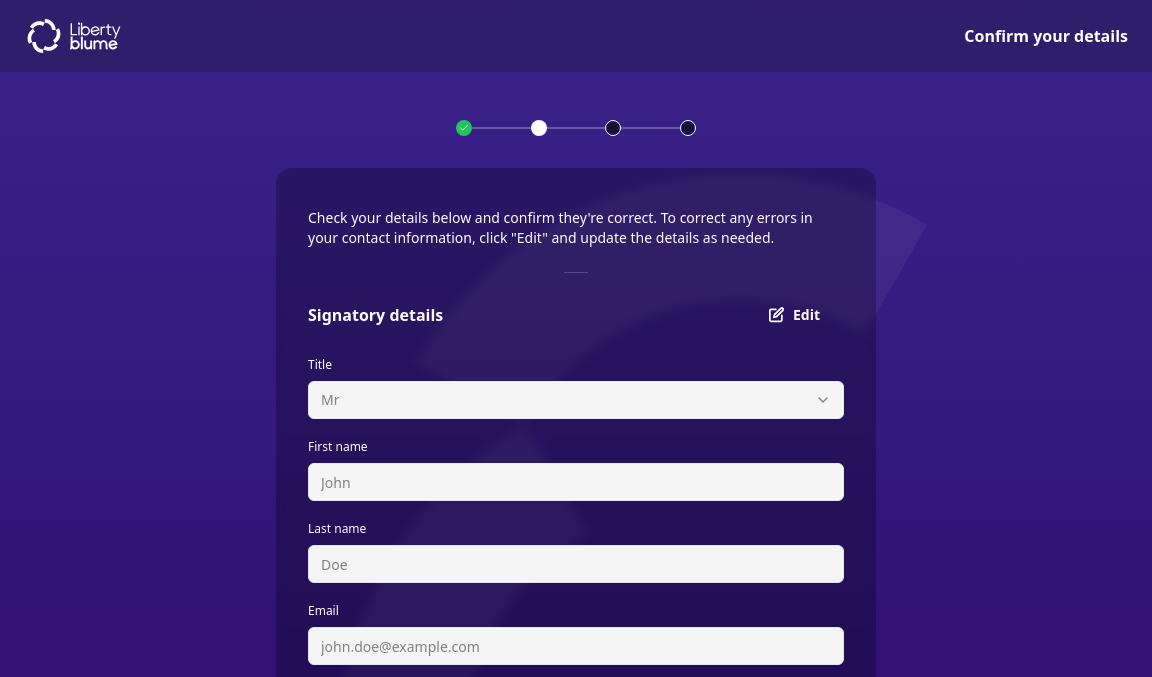
ConfirmDetails › form validation in edit mode › shows error when town is cleared
Click the button "Edit". click: [794, 315]
box: [745, 297, 844, 333]
(page scrolled)
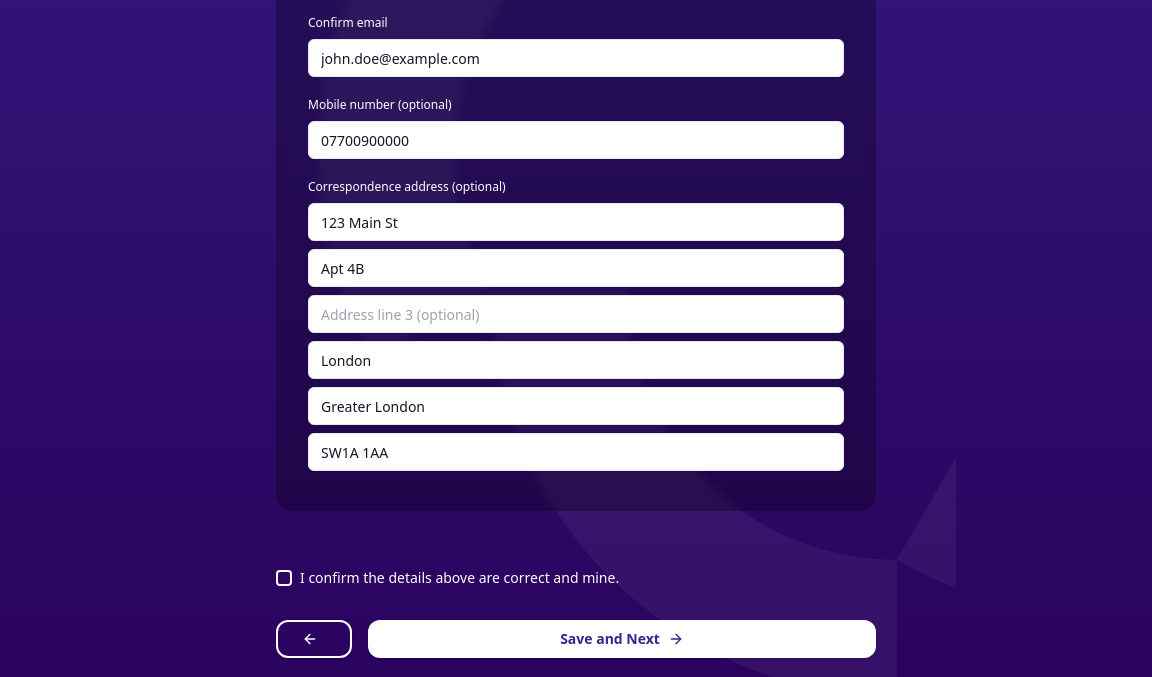
Expected: the 6th field is enabled
Clear the 6th field. click: [576, 360]
box: [308, 341, 844, 379]
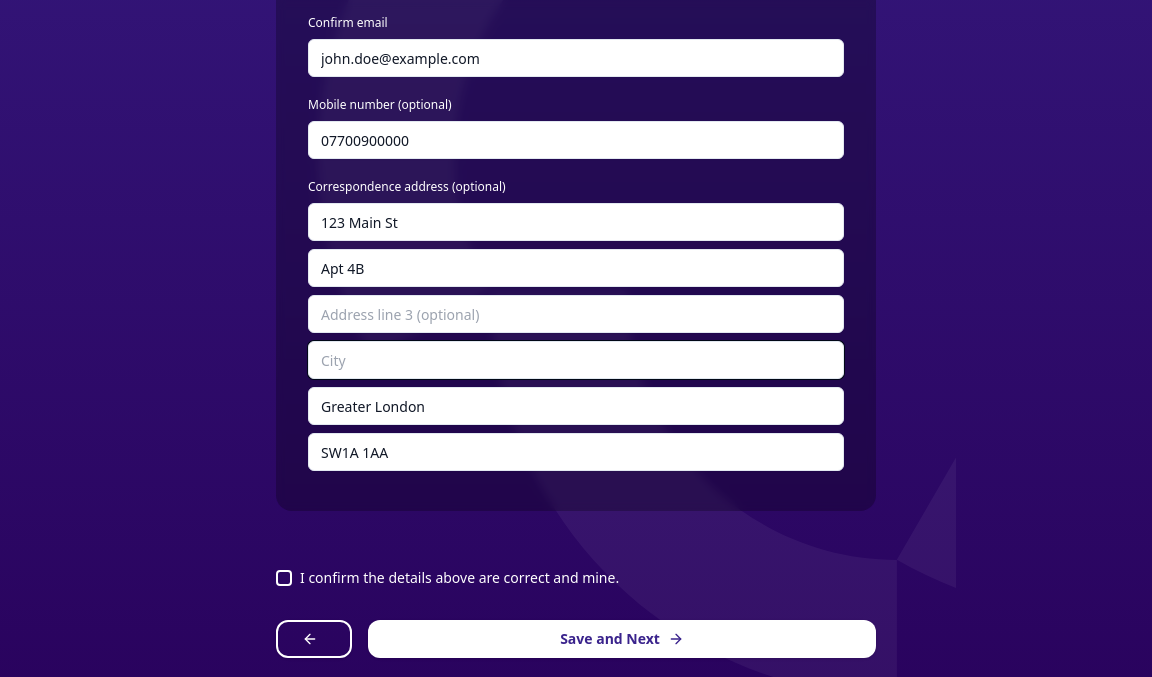
Click the checkbox. click: [284, 578]
box: [276, 570, 292, 586]
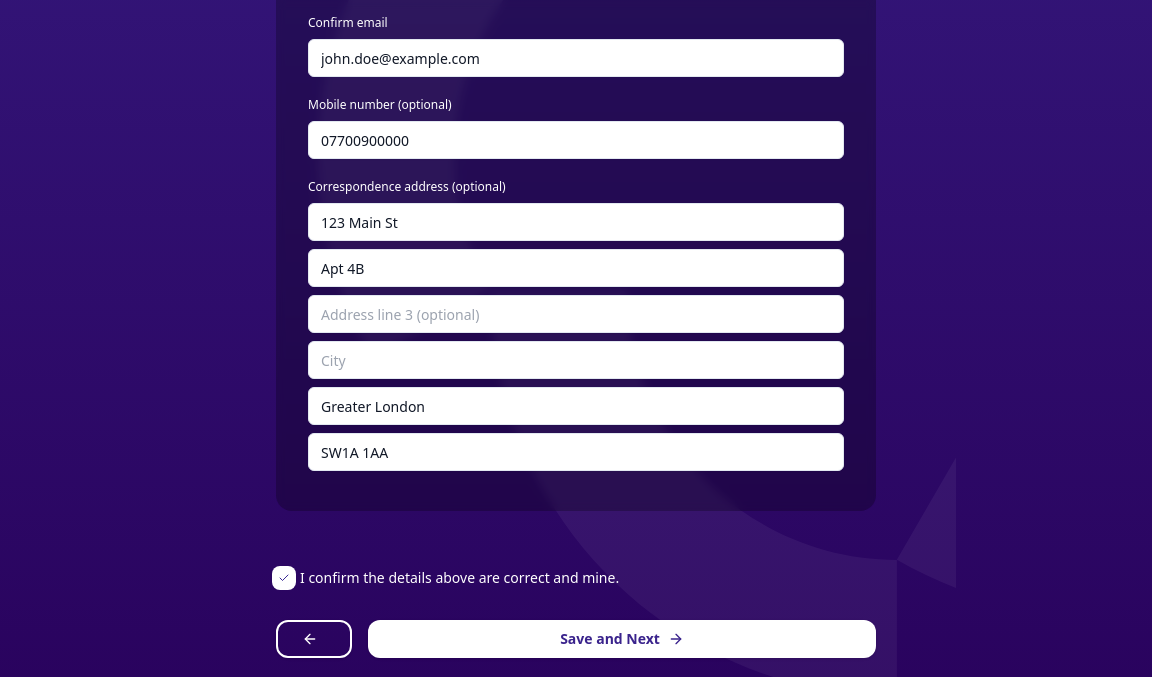
Click the button "Save and Next". click: [622, 639]
box: [368, 620, 876, 658]
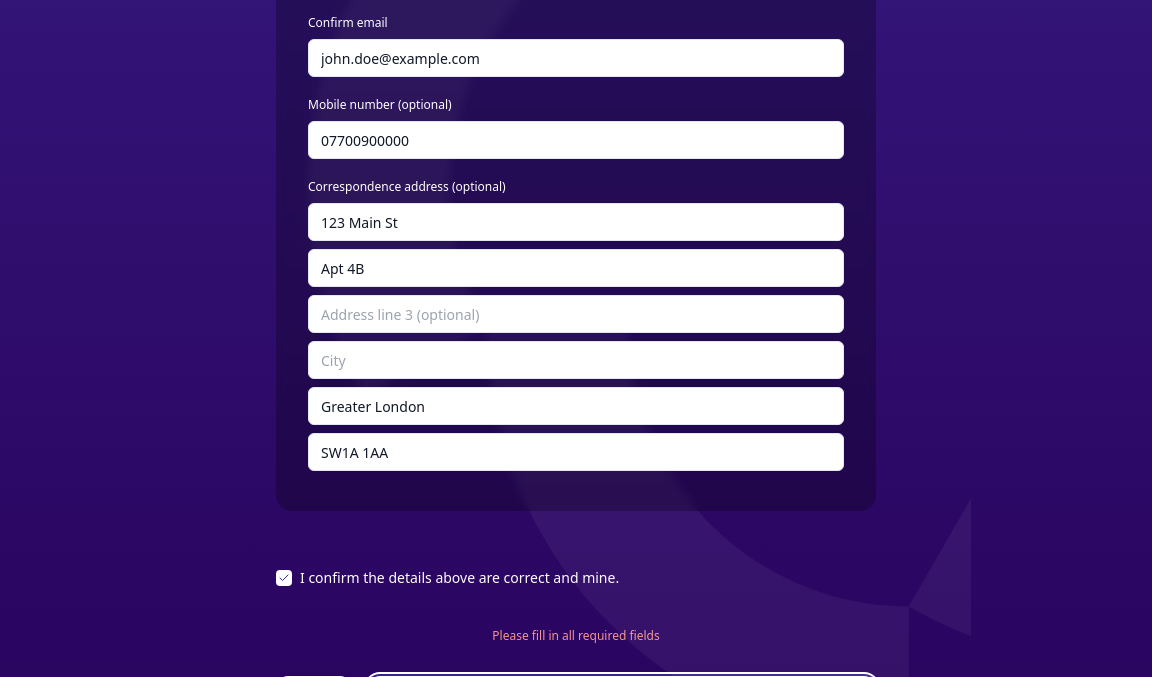
Expected: the text "Please fill in all required fields" is shown, [492, 627, 660, 644]
